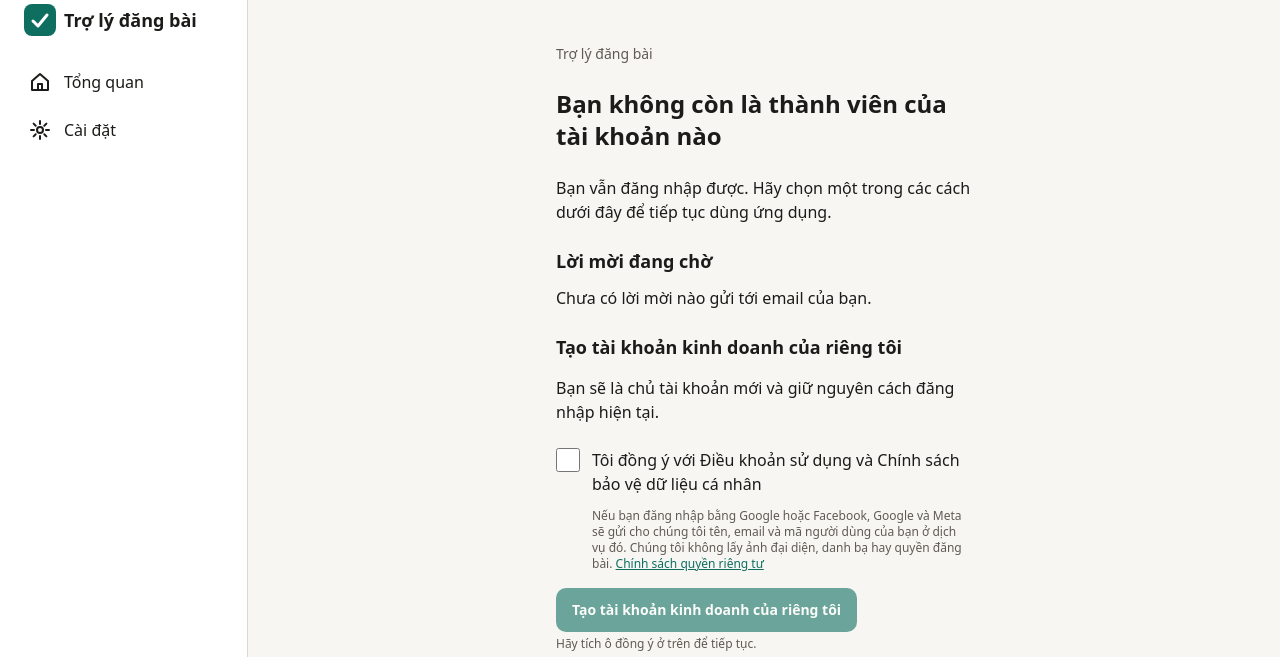
Test case: NoAccountPage › tích ô đồng ý rồi tạo tài khoản → gọi claim với acceptTerms; lỗi hiện kèm hành động
Later steps or results of the test are not shown.
Expected: the text "Chưa có lời mời nào gửi tới email của bạn." is shown, [556, 287, 871, 309]
Click the checkbox at (568, 460), box [556, 448, 580, 472]
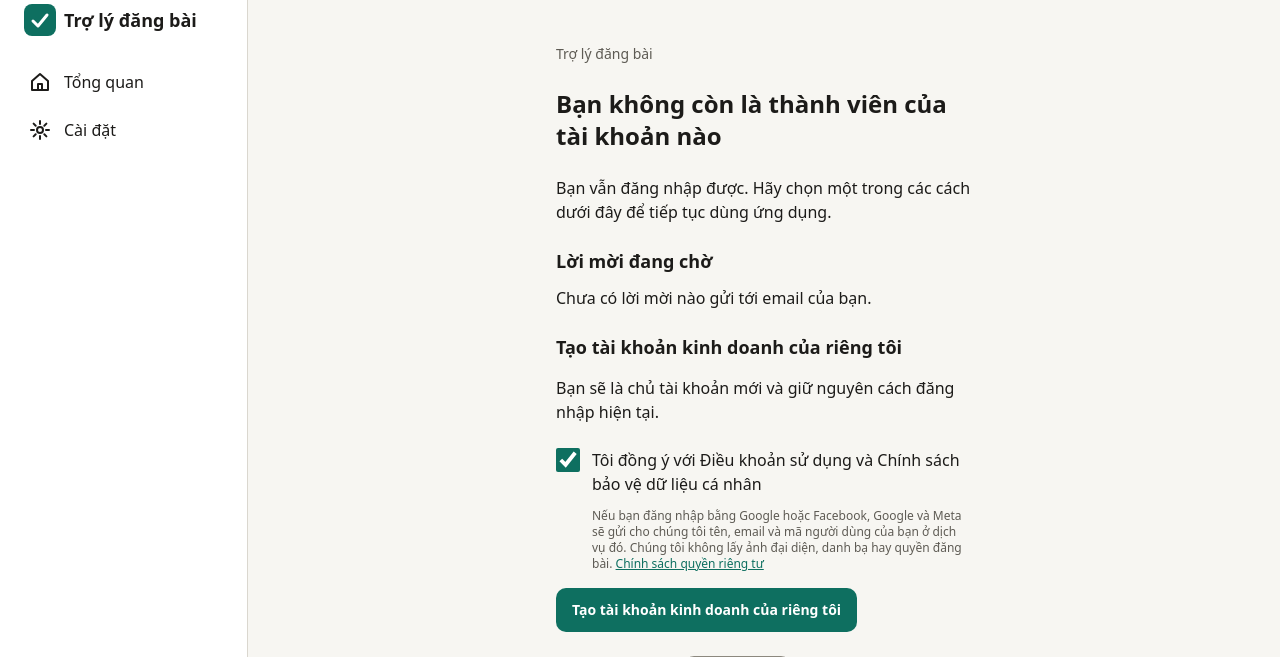
Click the button "Tạo tài khoản kinh doanh của riêng tôi" at (707, 610), box [556, 588, 857, 632]
(page scrolled)
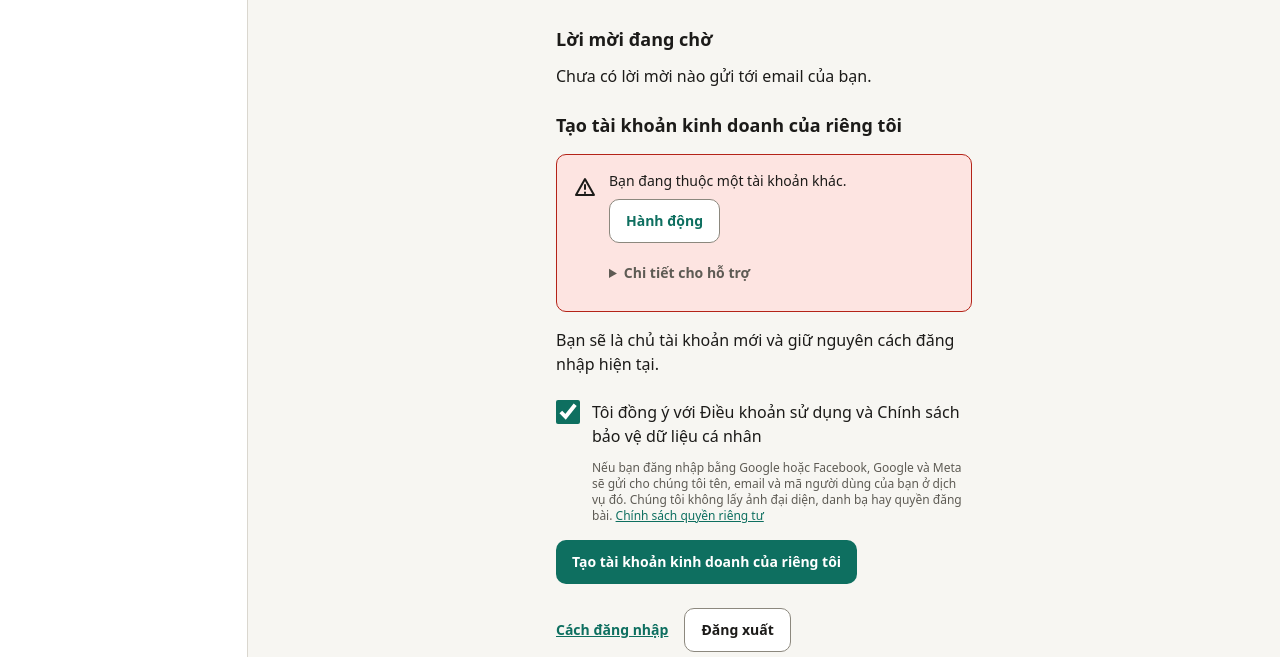
Now the text "Bạn đang thuộc một tài khoản khác." is shown, box [609, 171, 846, 190]
Now the link "Hành động" is shown, box [609, 199, 720, 243]
